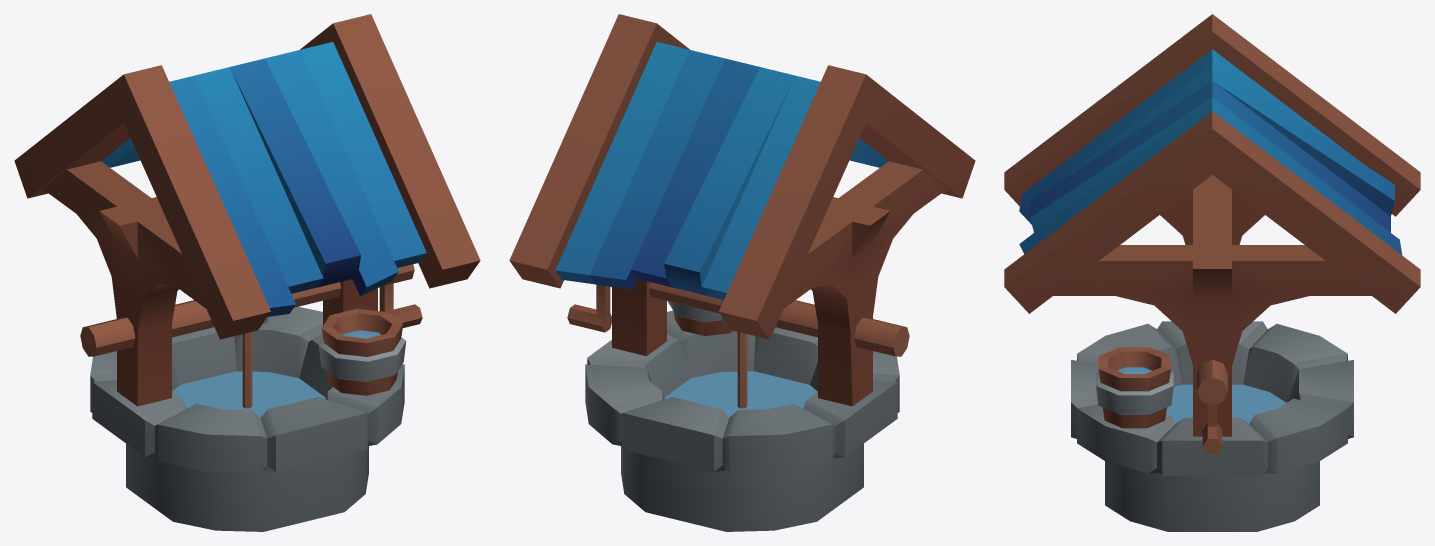
The model's file is H_well_blue.glb.
3 renders of one model, left to right at view 1: azimuth 30°, elevation 25°; view 2: azimuth 150°, elevation 25°; view 3: azimuth 270°, elevation 25°, orthographic. The views are drawn at different scales.
Parts seen in each view (by area): view 1: building_well_blue; view 2: building_well_blue; view 3: building_well_blue.
Part boxes in pixels (left/top/right/bottom): building_well_blue: left=14, top=14, right=480, bottom=531; building_well_blue: left=509, top=14, right=975, bottom=531; building_well_blue: left=1004, top=14, right=1420, bottom=531.
Bounding box in the file's own units: 0.6518 × 0.826 × 0.7507.
